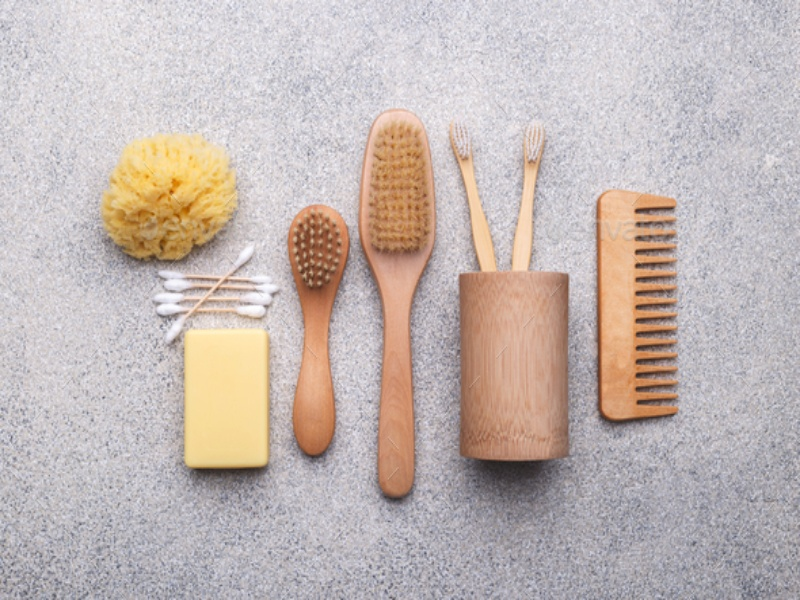Wooden_kit_Reuse: (55, 100, 739, 536)
